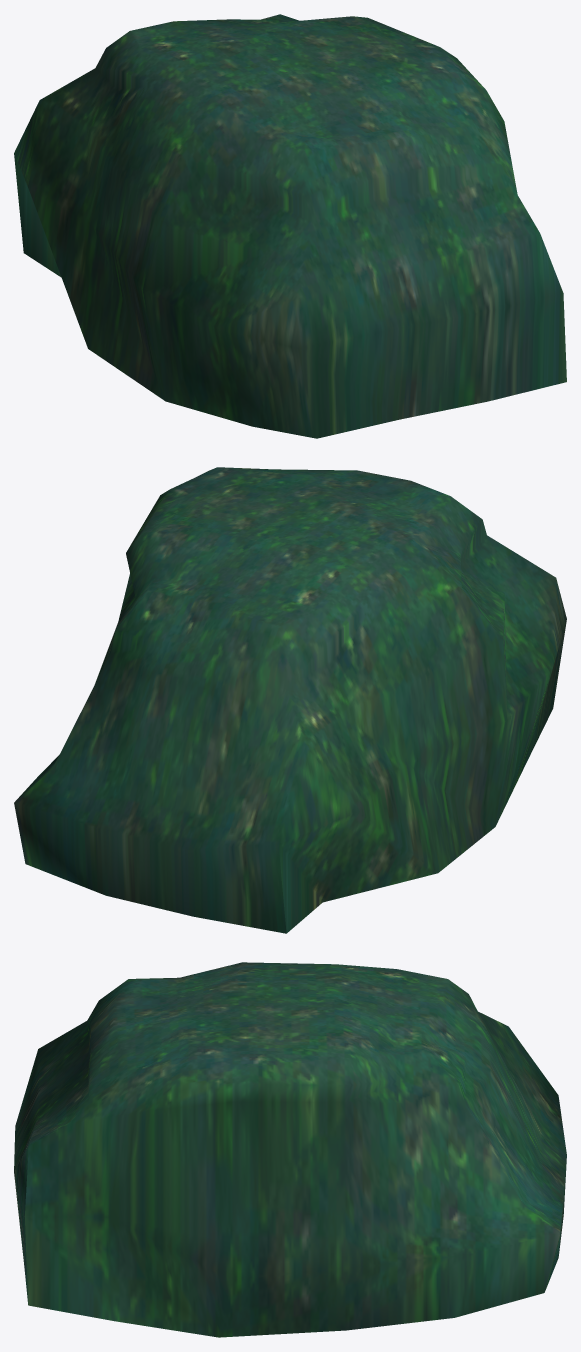
The model's file is MIRKWOOD_MIRK_PLAYSURFACE50.fbx.
3 views of the same model, one above another, from view 1: azimuth 30°, elevation 25°; view 2: azimuth 150°, elevation 25°; view 3: azimuth 270°, elevation 25° (orthographic). The views are drawn at different scales.
Parts seen in each view (by area): view 1: MIRKWOOD_MIRK_PLAYSURFACE50; view 2: MIRKWOOD_MIRK_PLAYSURFACE50; view 3: MIRKWOOD_MIRK_PLAYSURFACE50.
Boxes of the visible parts, x1,y1,x2,y2 form: MIRKWOOD_MIRK_PLAYSURFACE50: (14,14,566,438); MIRKWOOD_MIRK_PLAYSURFACE50: (14,467,566,933); MIRKWOOD_MIRK_PLAYSURFACE50: (14,962,566,1337).
Bounding box in the file's own units: 35510 × 28877 × 52552.
Materials: 1 (1 with a texture image).
